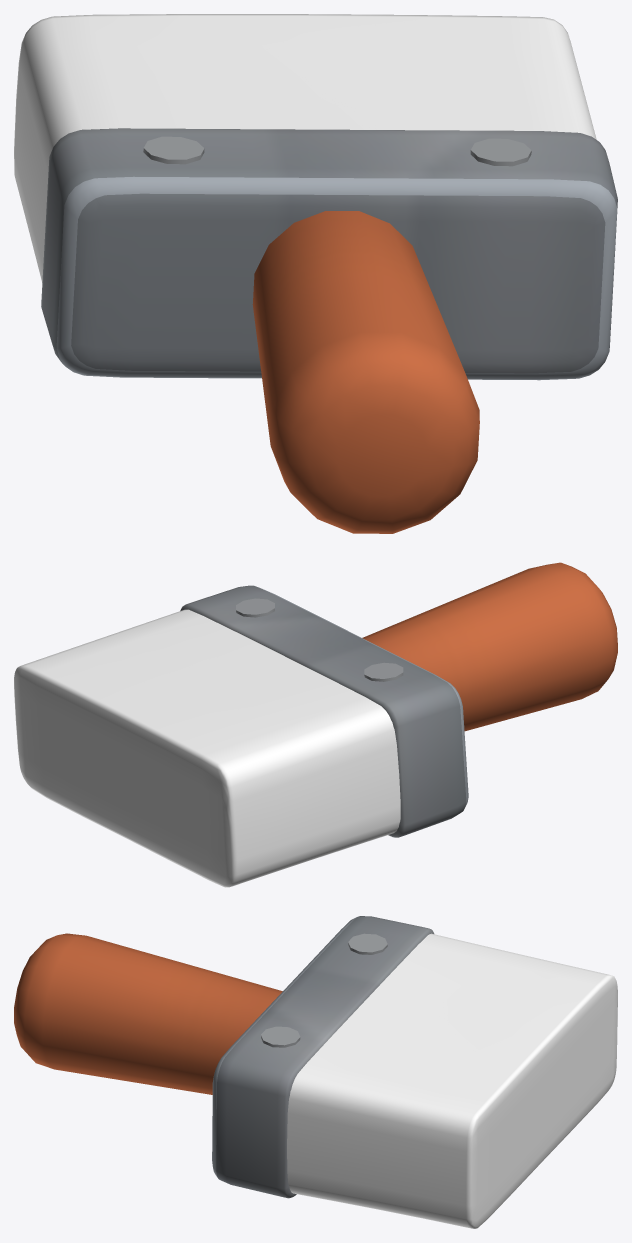
File: PaintBrush-Animated.fbx
3 views of the same model, one above another, from view 1: azimuth 30°, elevation 25°; view 2: azimuth 150°, elevation 25°; view 3: azimuth 270°, elevation 25° (orthographic). The views are drawn at different scales.
Parts seen in each view (by area): view 1: PaintBrush-Animated; view 2: PaintBrush-Animated; view 3: PaintBrush-Animated.
Boxes of the visible parts, box(x1,y1,x2,y2) form: PaintBrush-Animated: box(14, 14, 617, 533); PaintBrush-Animated: box(14, 562, 617, 887); PaintBrush-Animated: box(14, 916, 617, 1228).
Size of the model in its own units: 10.21 by 3.75 by 13.79.
